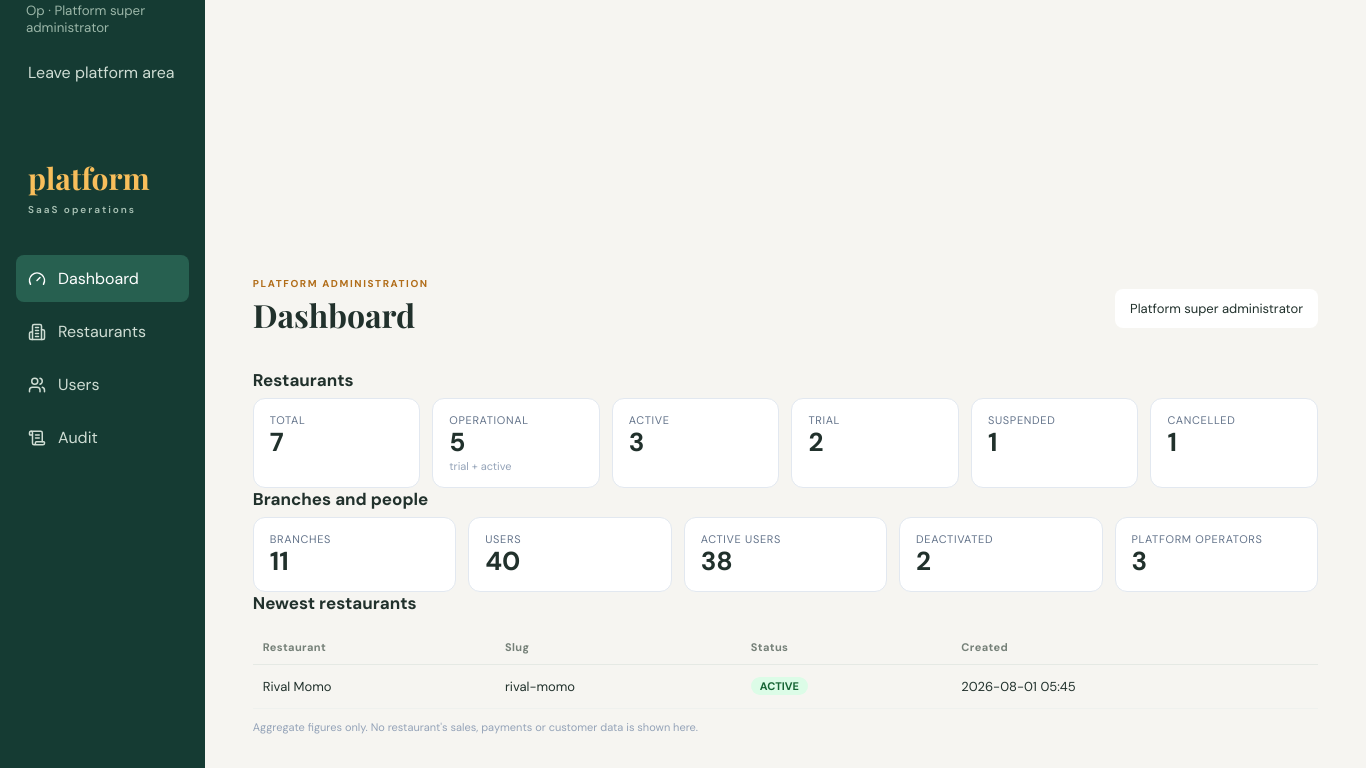
Test: P2B UI · users › offers deactivation to an operator who may manage users
This screenshot has width=1366, height=768.
(page scrolled)
Click the button "Users" at (102, 384), box x1=16 y1=361 x2=189 y2=408
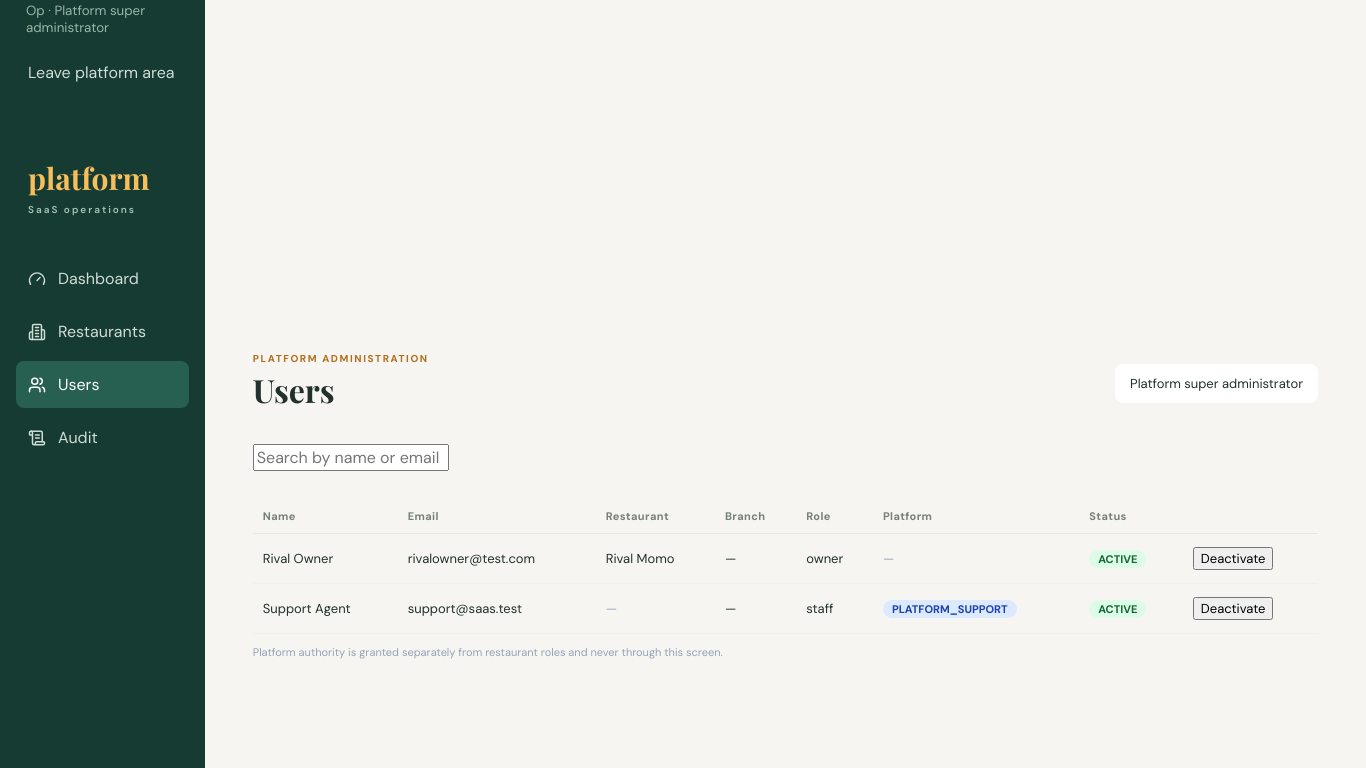
Check: the 1st button "Deactivate" is shown, box x1=1193 y1=547 x2=1274 y2=570
